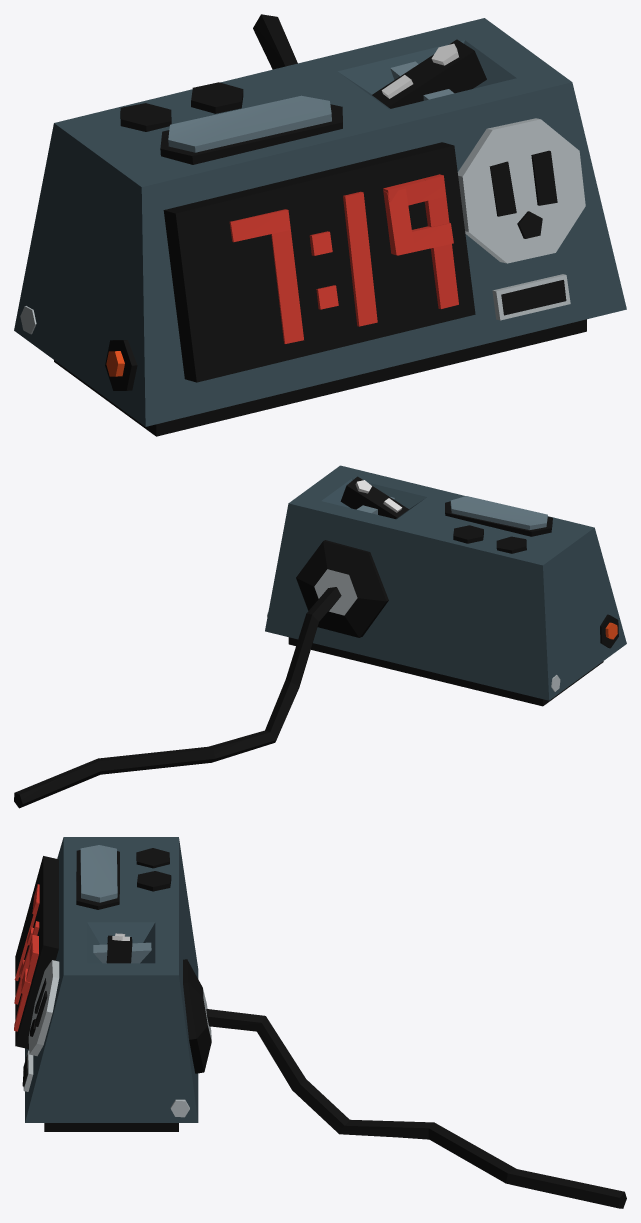
3 renders of one model, top to bottom at view 1: azimuth 30°, elevation 25°; view 2: azimuth 150°, elevation 25°; view 3: azimuth 270°, elevation 25°, orthographic. The views are drawn at different scales.
Visible parts, largest first — view 1: node_MeshObject1734113280-PolyPaper21; view 2: node_MeshObject1734113280-PolyPaper21; view 3: node_MeshObject1734113280-PolyPaper21.
Part boxes in pixels (x1=…): node_MeshObject1734113280-PolyPaper21: x1=14, y1=14, x2=626, y2=436; node_MeshObject1734113280-PolyPaper21: x1=14, y1=465, x2=626, y2=808; node_MeshObject1734113280-PolyPaper21: x1=14, y1=837, x2=626, y2=1208.
Size of the model in its own units: 0.2342 by 0.1212 by 0.3188.
